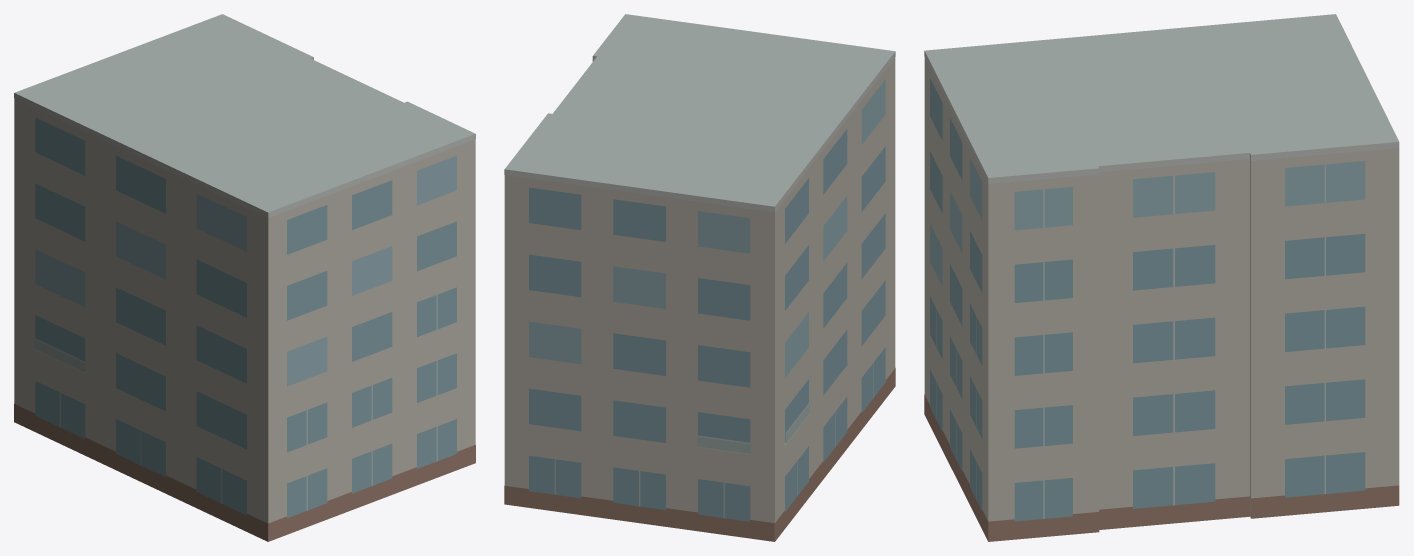
The model's file is survey-upis-32709165.glb.
3 renders of one model, left to right at view 1: azimuth 30°, elevation 25°; view 2: azimuth 150°, elevation 25°; view 3: azimuth 270°, elevation 25°, orthographic. The views are drawn at different scales.
Parts seen in each view (by area): view 1: survey-upis-32709165.tmp; view 2: survey-upis-32709165.tmp; view 3: survey-upis-32709165.tmp.
Part boxes in pixels (left/top/right/bottom): survey-upis-32709165.tmp: left=14, top=14, right=475, bottom=541; survey-upis-32709165.tmp: left=504, top=14, right=895, bottom=541; survey-upis-32709165.tmp: left=924, top=14, right=1399, bottom=541.
Bounding box in the file's own units: 14.22 × 14.7 × 17.4.
